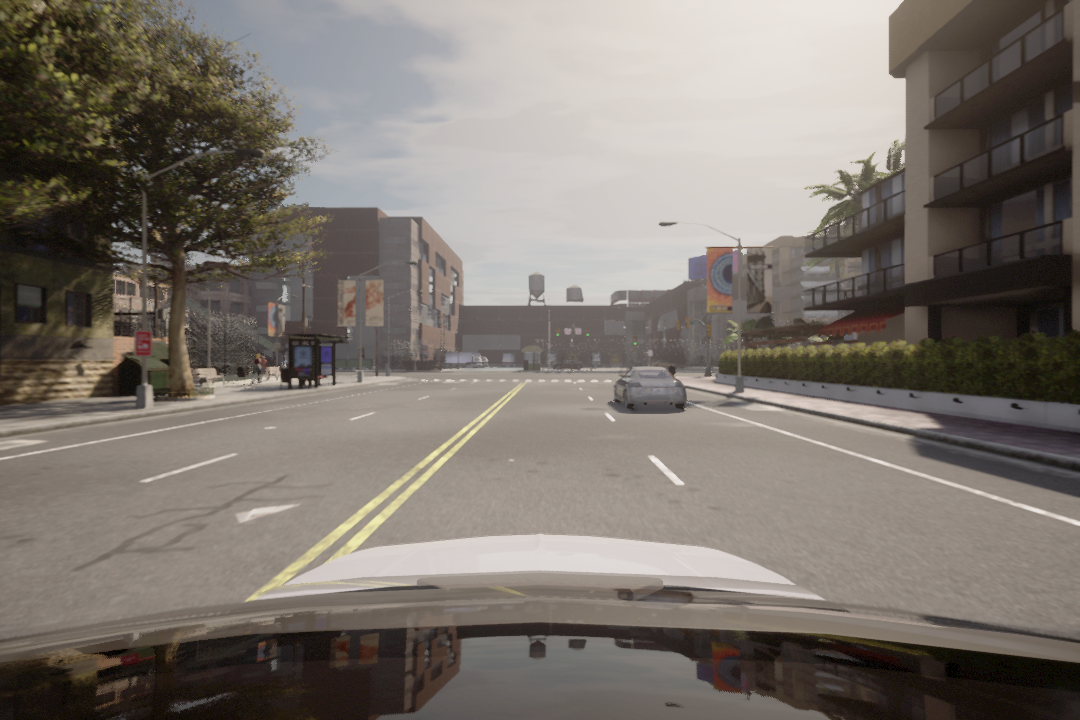walkside: (402, 375, 621, 385)
